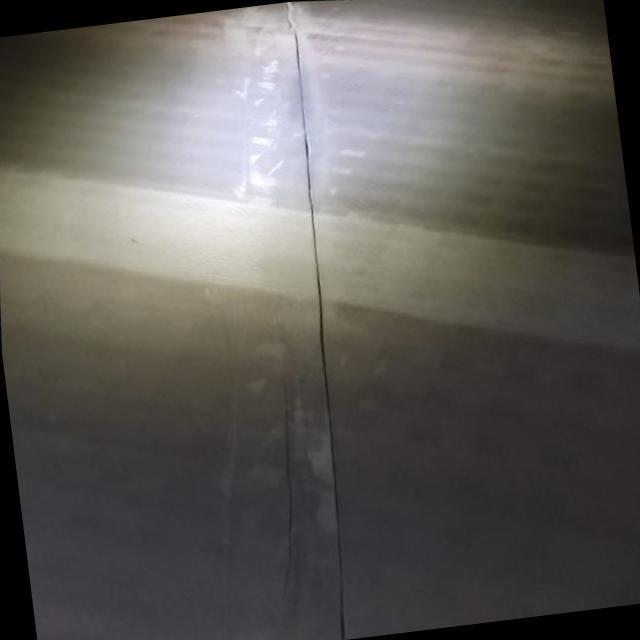Tear: (282, 0, 353, 640)
